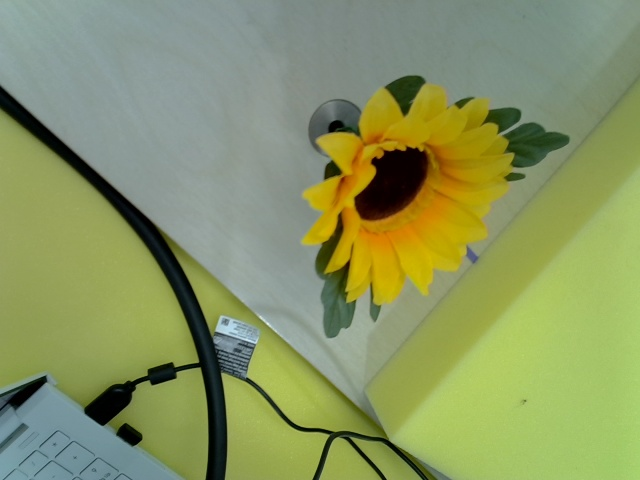해바라기: (312, 90, 500, 299)
